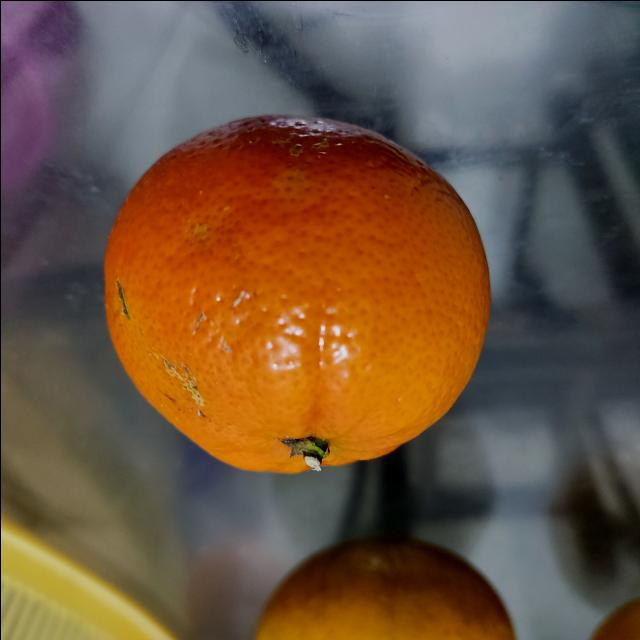orange: (104, 118, 492, 476)
